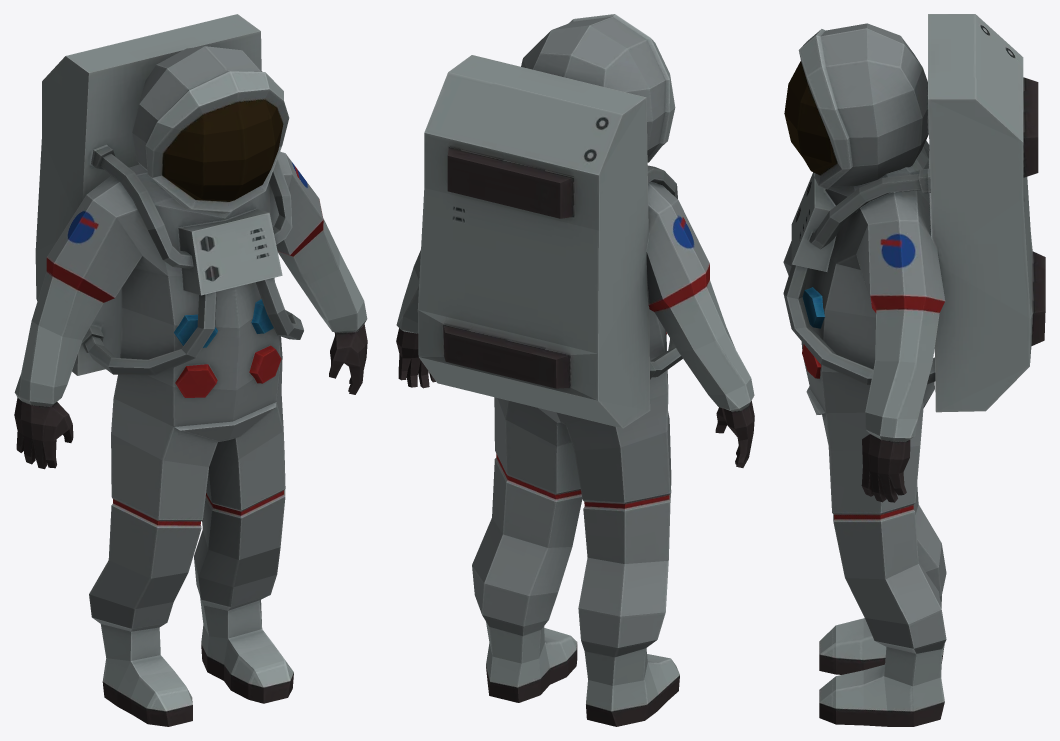
Rendered from astronaut-opt.glb.
The picture shows the model from 3 angles, left to right: view 1: azimuth 30°, elevation 25°; view 2: azimuth 150°, elevation 25°; view 3: azimuth 270°, elevation 25°; orthographic projection.
Visible parts, largest first — view 1: node-0; view 2: node-0; view 3: node-0.
Boxes of the visible parts, <box> form: node-0: <box>14,14,367,726</box>; node-0: <box>396,14,754,726</box>; node-0: <box>783,14,1045,726</box>.
Bounding box in the file's own units: 1.12 × 2.01 × 0.7235.
Materials: 1 (1 with a texture image).
